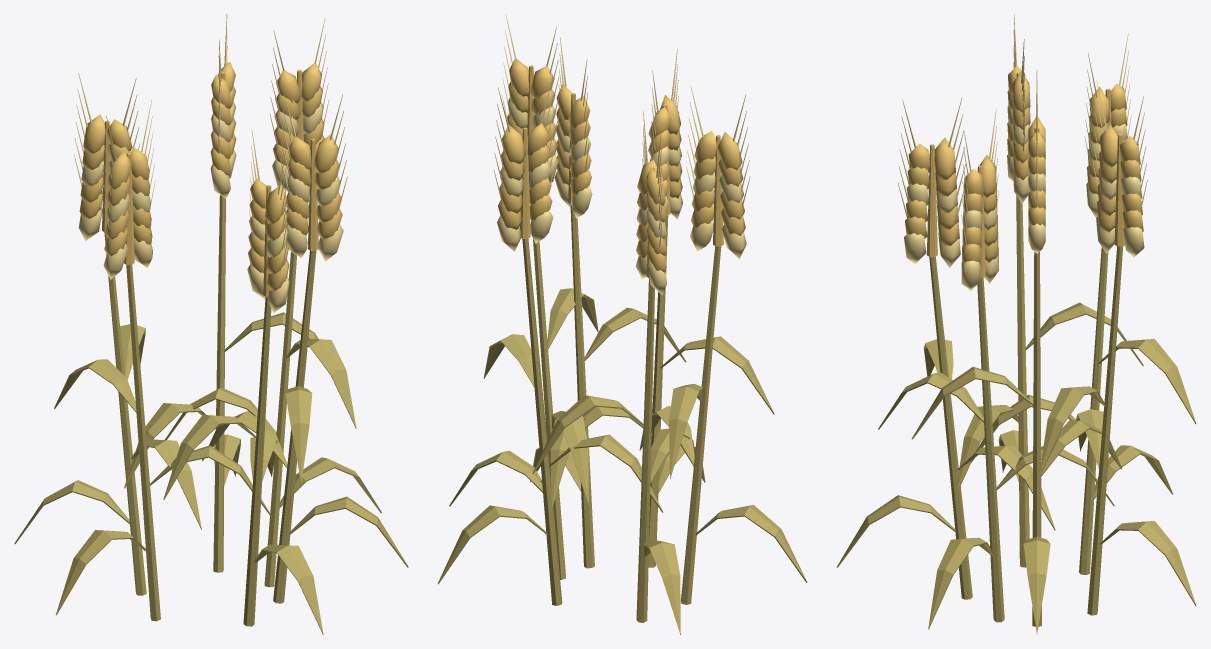
The model's file is grain_mature.glb.
The picture shows the model from 3 angles, left to right: view 1: azimuth 30°, elevation 25°; view 2: azimuth 150°, elevation 25°; view 3: azimuth 270°, elevation 25°; orthographic projection.
Parts seen in each view (by area): view 1: Ripe grain • six ears; view 2: Ripe grain • six ears; view 3: Ripe grain • six ears.
Part boxes in pixels (left/top/right/bottom): Ripe grain • six ears: left=14, top=14, right=408, bottom=634; Ripe grain • six ears: left=437, top=14, right=807, bottom=634; Ripe grain • six ears: left=836, top=14, right=1196, bottom=634.
Size of the model in its own units: 0.8562 by 1.32 by 0.7712.
